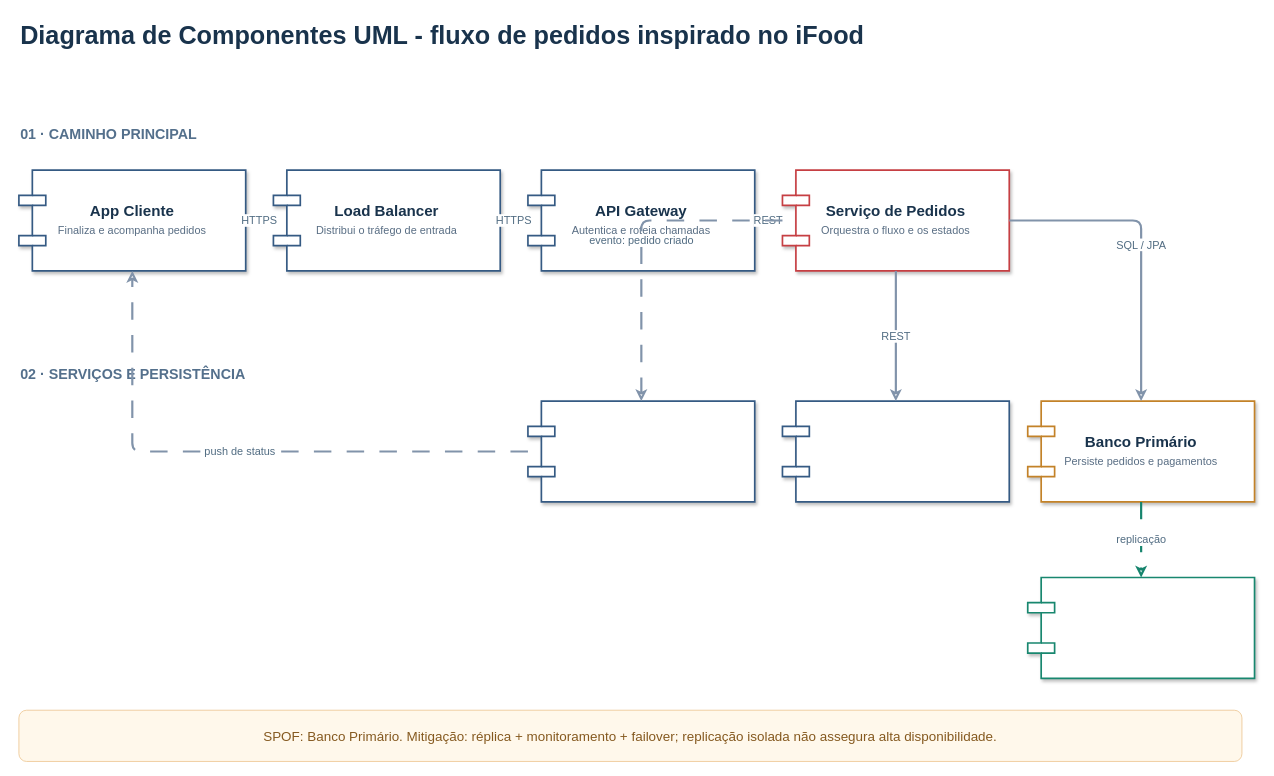
Image size: 1274x776. Some labels were removed from this diagram. Here are the shapes that lost their labels. From the top down, the centre of each, then its label:
At point 641,452: "Serviço de Notificações Comunica mudanças de status".
At point 896,452: "Serviço de Pagamentos Coordena a autorização".
At point 1141,629: "Réplica do Banco Cópia para failover planejado".
